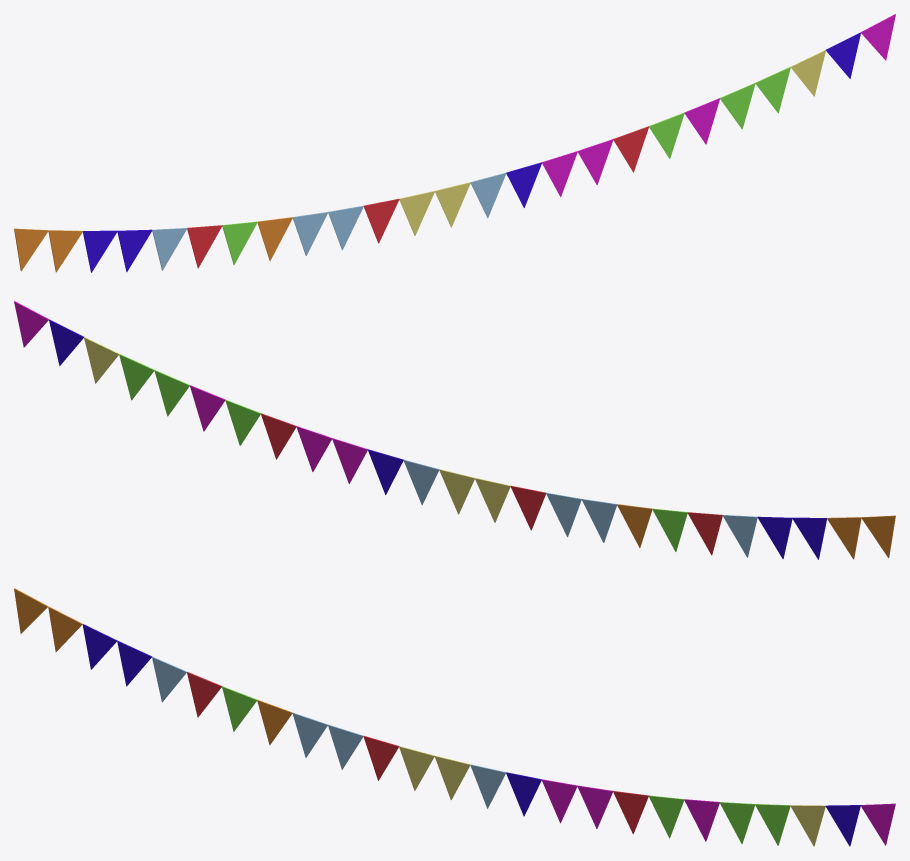
The model's file is walldeco.fbx.
3 views of the same model, one above another, from view 1: azimuth 30°, elevation 25°; view 2: azimuth 150°, elevation 25°; view 3: azimuth 330°, elevation 25° (orthographic).
Visible parts, largest first — view 1: walldeco; view 2: walldeco; view 3: walldeco.
Part boxes in pixels (x1=…): walldeco: x1=14, y1=14, x2=895, y2=272; walldeco: x1=14, y1=301, x2=895, y2=559; walldeco: x1=14, y1=588, x2=895, y2=846.
Bounding box in the file's own units: 731 × 83.45 × 1.
